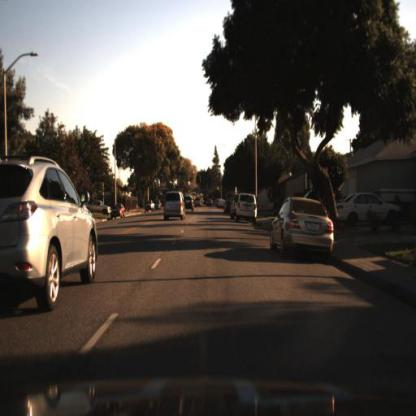car: (1, 156, 98, 315), (268, 194, 337, 259), (337, 191, 403, 229), (234, 192, 259, 227), (163, 189, 188, 222), (88, 199, 111, 217), (89, 200, 111, 216), (108, 204, 126, 222), (180, 193, 194, 214), (111, 204, 127, 220), (144, 199, 159, 216), (205, 199, 214, 208)
